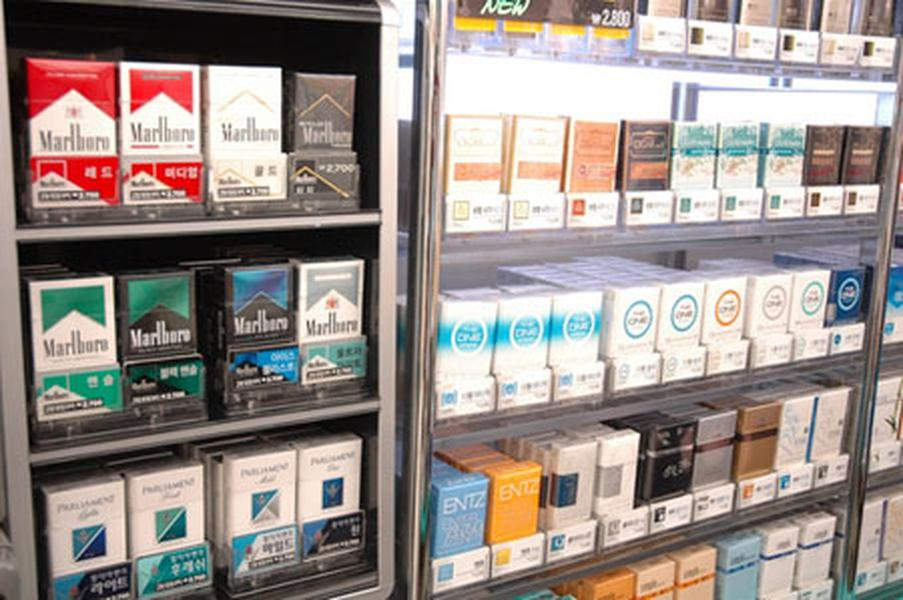marlboro_gold: (208, 67, 282, 199)
marlboro_mentol: (33, 284, 115, 412)
marlboro_red: (30, 61, 115, 207), (120, 64, 200, 204)
